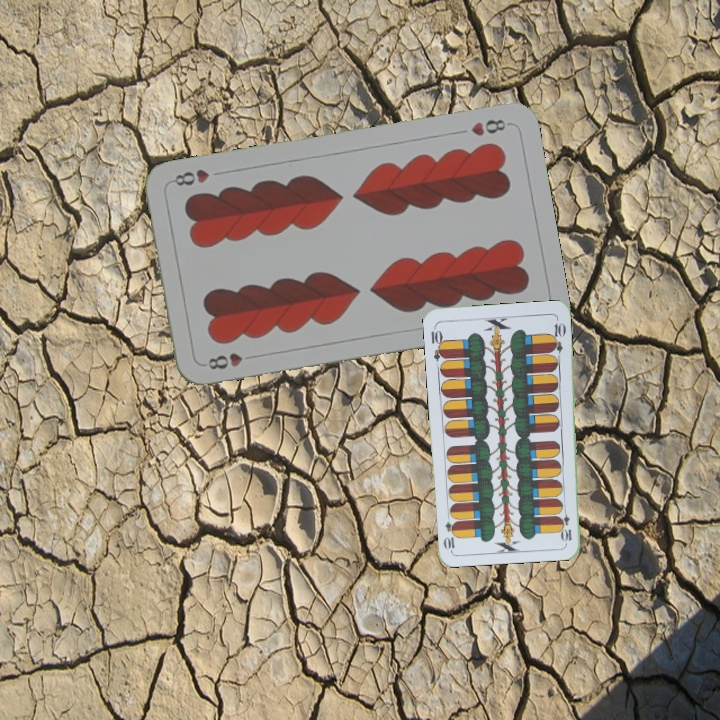E10: (427, 322, 448, 363), (558, 503, 574, 544)
H8: (200, 349, 258, 372), (467, 115, 513, 139)
